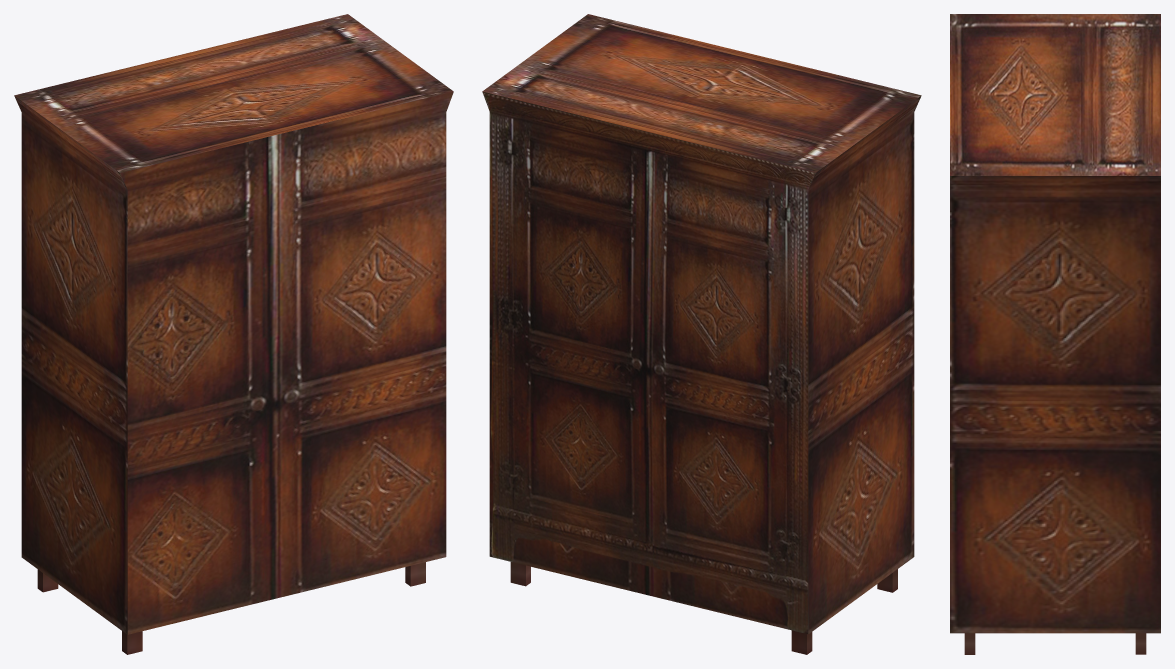
File: olddresser.obj
3 renders of one model, left to right at view 1: azimuth 30°, elevation 25°; view 2: azimuth 150°, elevation 25°; view 3: azimuth 270°, elevation 25°, orthographic.
Parts seen in each view (by area): view 1: br_nimrod2; view 2: br_nimrod2; view 3: br_nimrod2.
Part boxes in pixels (bbox=[...]): br_nimrod2: bbox=[14, 14, 453, 654]; br_nimrod2: bbox=[482, 14, 921, 654]; br_nimrod2: bbox=[950, 14, 1160, 654].
Size of the model in its own units: 94.53 by 133 by 51.98.
1 material, 1 textured.
